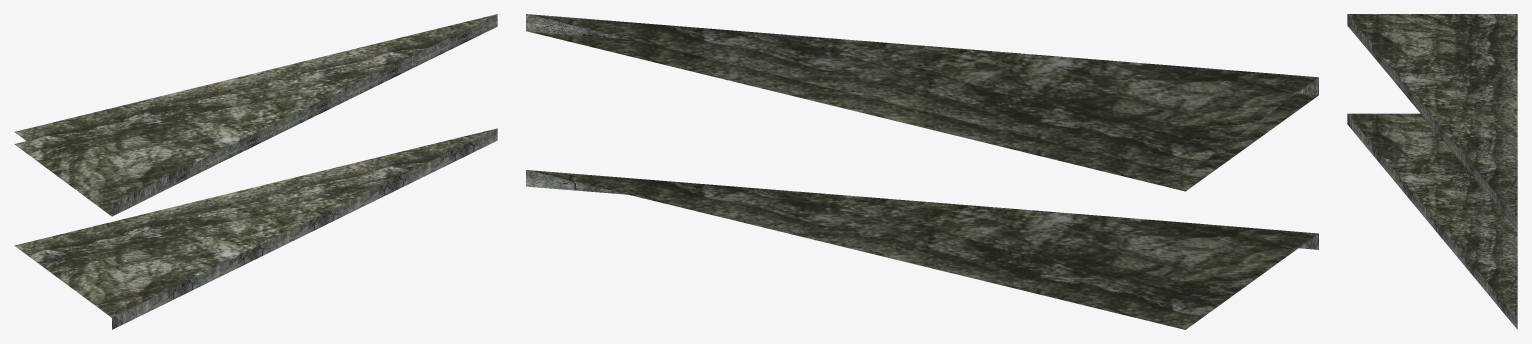
3 renders of one model, left to right at view 1: azimuth 30°, elevation 25°; view 2: azimuth 150°, elevation 25°; view 3: azimuth 270°, elevation 25°, orthographic. The views are drawn at different scales.
Visible parts, largest first — view 1: Object16; view 2: Object16; view 3: Object16.
Boxes of the visible parts, x1,y1,x2,y2 form: Object16: (14,14,497,329); Object16: (526,14,1318,329); Object16: (1347,14,1517,329).
Bounding box in the file's own units: 200 × 50.01 × 69.99.
